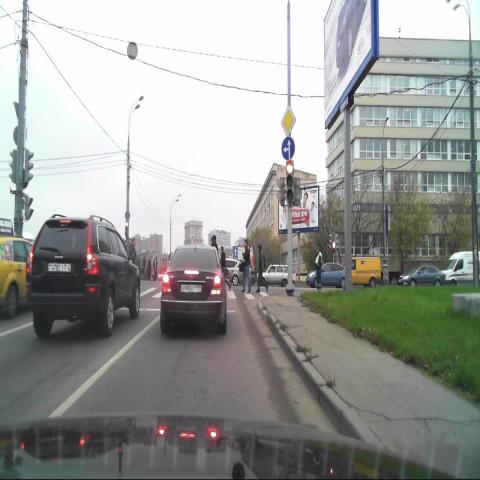4_1_5: (281, 136, 295, 161)
